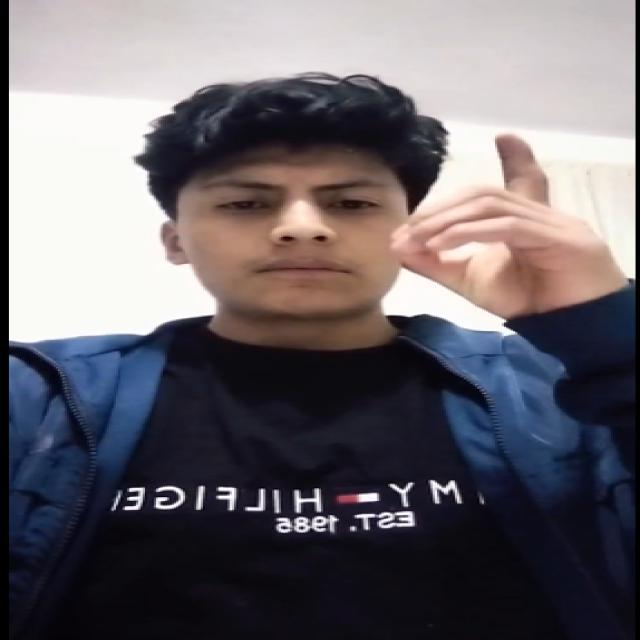D: (386, 125, 628, 331)
